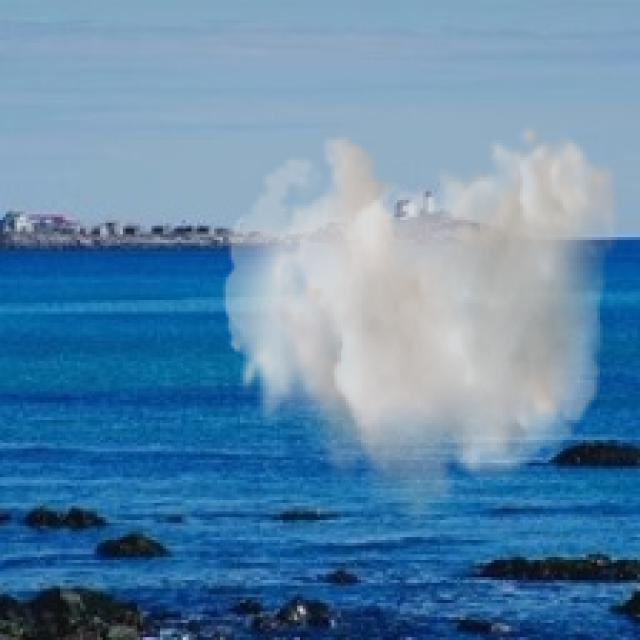Smoke: (223, 122, 620, 534)
